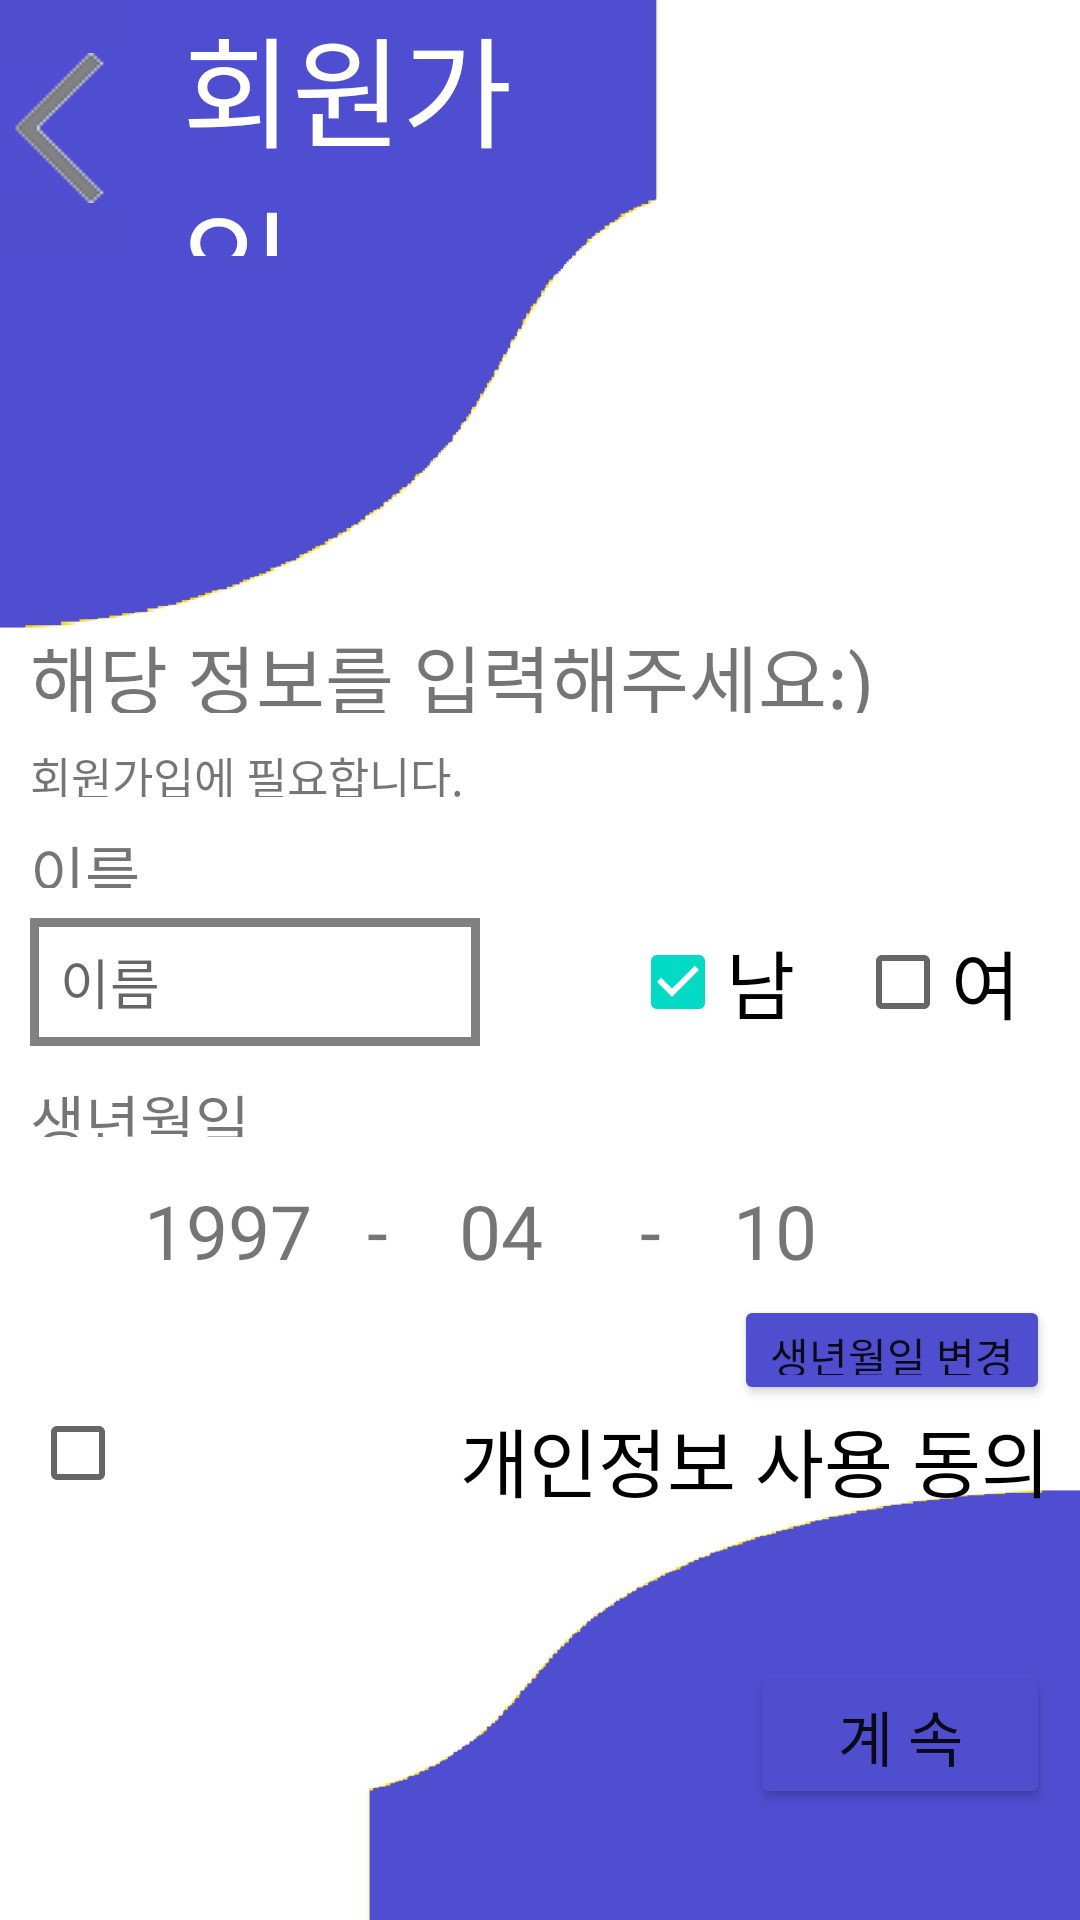

Icon click points for this 1080*1920 phone screenshot, format (x,y):
back space: (59,128)
